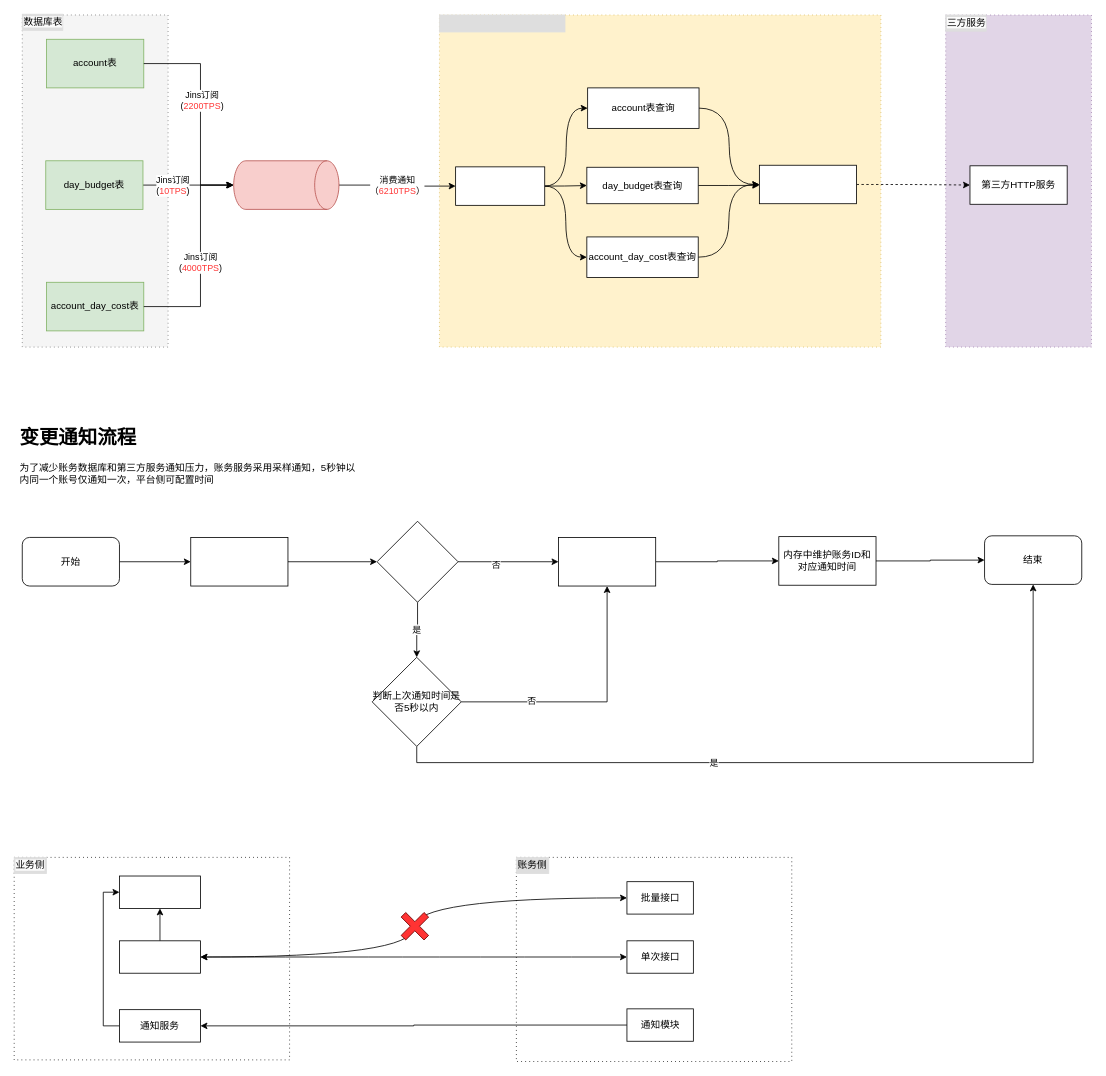
The diagram is 1106 pixels wide and 1076 high, and some of its shapes have lost their labels. Each missing label, with the centre of its shape:
"account-thirdparty-consumer" goes at point (502, 23).
"HTTP推送三方接口" goes at point (607, 561).
"HTTP推送第三方接口" goes at point (808, 184).
"RMQ消息队列" goes at point (286, 184).
"内存中账务信息" goes at point (159, 891).
"内存判断账务ID是否有上次通知记录" goes at point (417, 561).
"定时兜底任务" goes at point (159, 956).
"批量消费 (同一个账务ID5秒以内只通知一次)" goes at point (500, 185).
"批量消费数据库变更记录" goes at point (239, 561).
